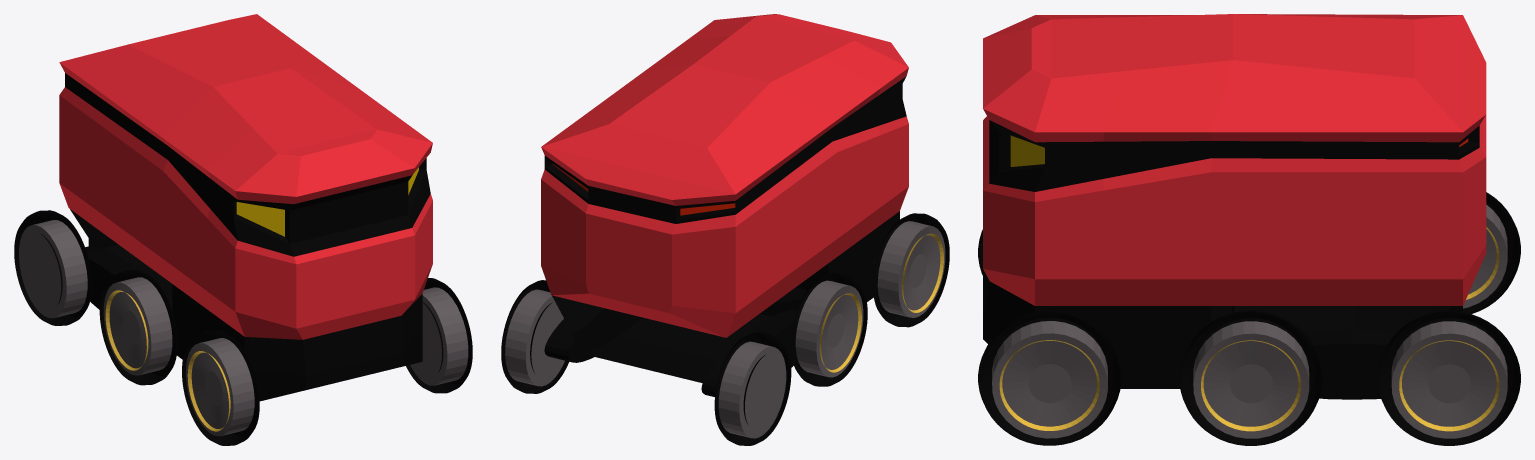
File: Bellbot.fbx
The picture shows the model from 3 angles, left to right: view 1: azimuth 30°, elevation 25°; view 2: azimuth 150°, elevation 25°; view 3: azimuth 270°, elevation 25°; orthographic projection. The views are drawn at different scales.
Parts seen in each view (by area): view 1: Cube; view 2: Cube; view 3: Cube.
Boxes of the visible parts, x1,y1,x2,y2 form: Cube: [14, 14, 472, 445]; Cube: [501, 14, 949, 445]; Cube: [978, 14, 1520, 445].
Bounding box in the file's own units: 900 × 1417 × 990.
